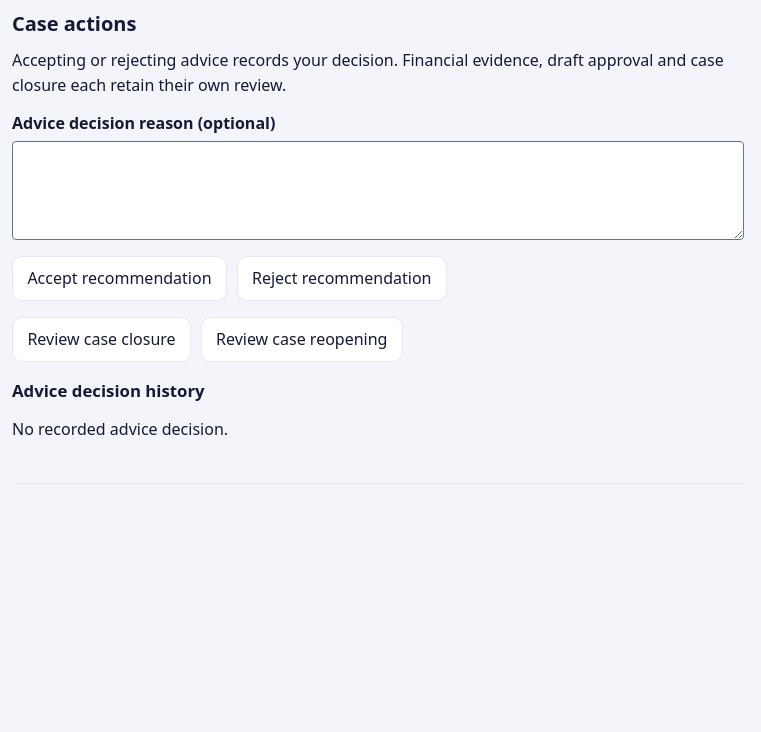
Test: reopens only after an explicit confirmation and retains its optional owner reason
This screenshot has width=761, height=732.
Type "New conflicting evidence" into the text box labelled "Advice decision reason (optional)".
click(378, 190); type("New conflicting evidence")  # box 12,141 -> 744,240
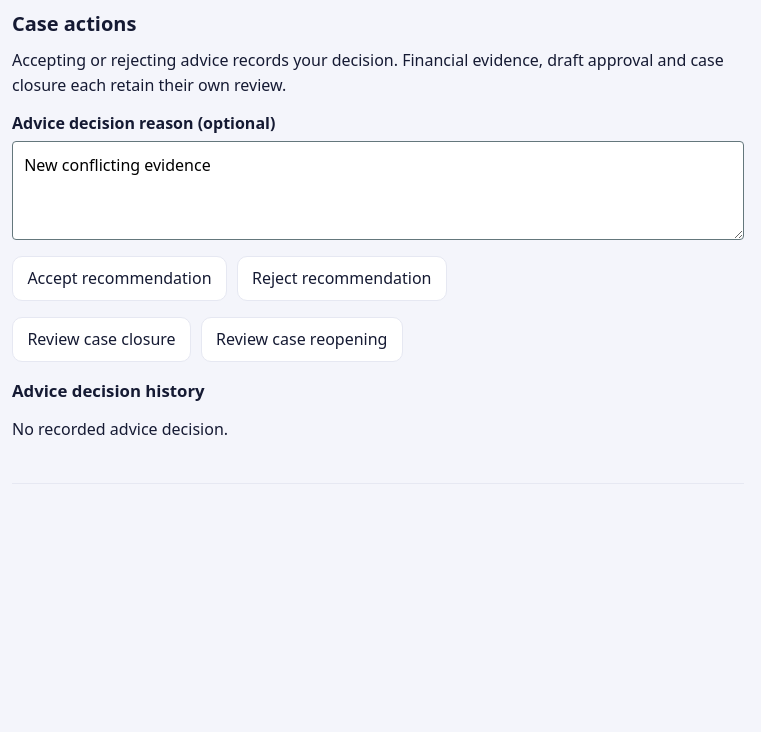
Click the button "Review case reopening".
click(302, 340)  # box 201,317 -> 403,362
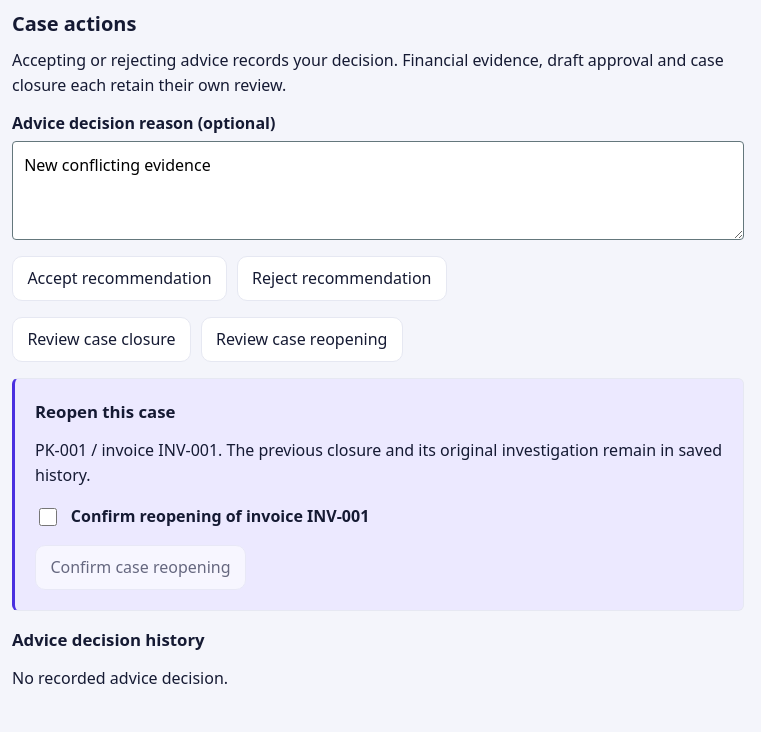
Expected: the button "Confirm case reopening" is disabled, 35,545 -> 246,590
Click the checkbox labelled "Confirm reopening of invoice INV-001".
click(48, 517)  # box 39,508 -> 57,526
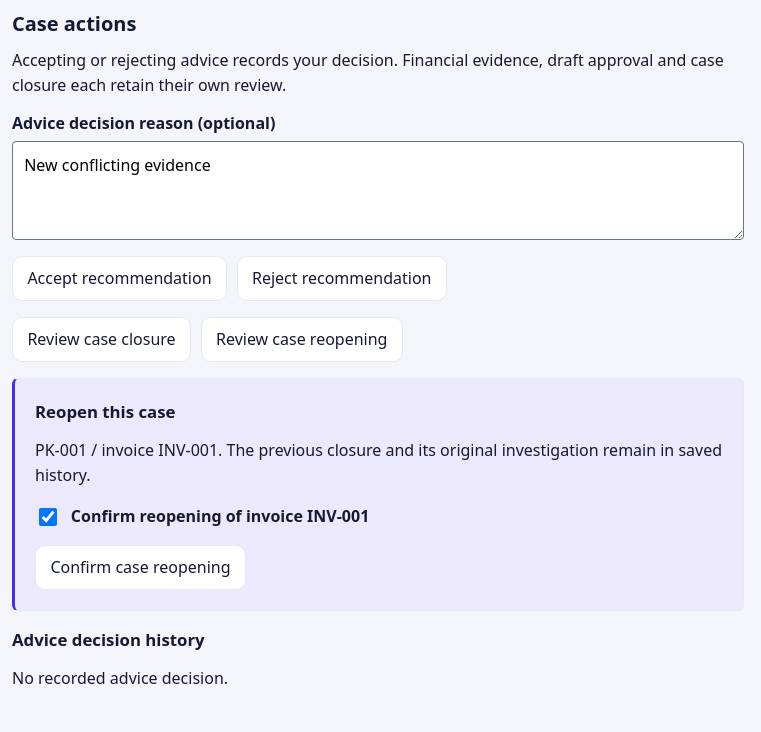
Click the button "Confirm case reopening".
click(140, 568)  # box 35,545 -> 246,590
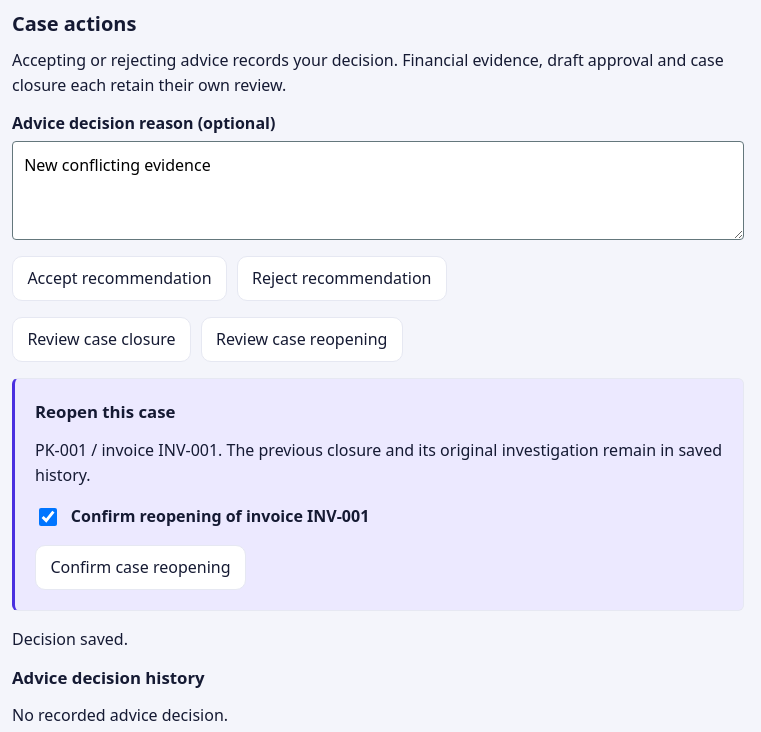
Expected: the text "Decision saved." is shown, 12,628 -> 128,650
